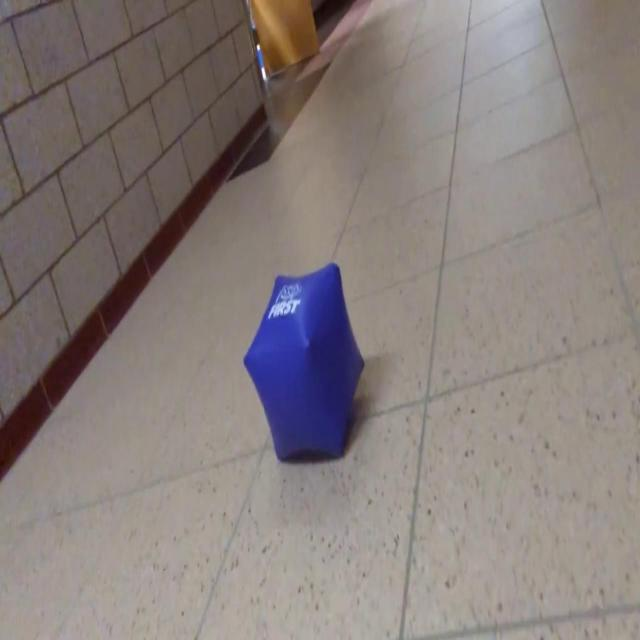frc_cube: (242, 267, 364, 463)
